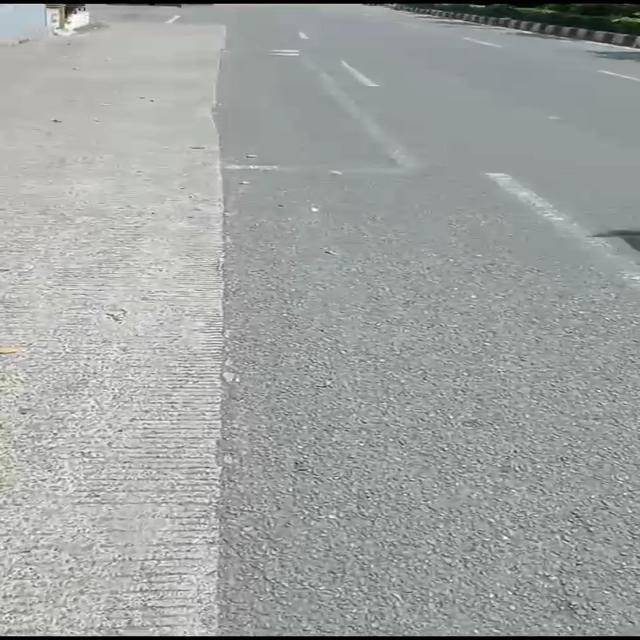Sambungan: (0, 27, 232, 633)
